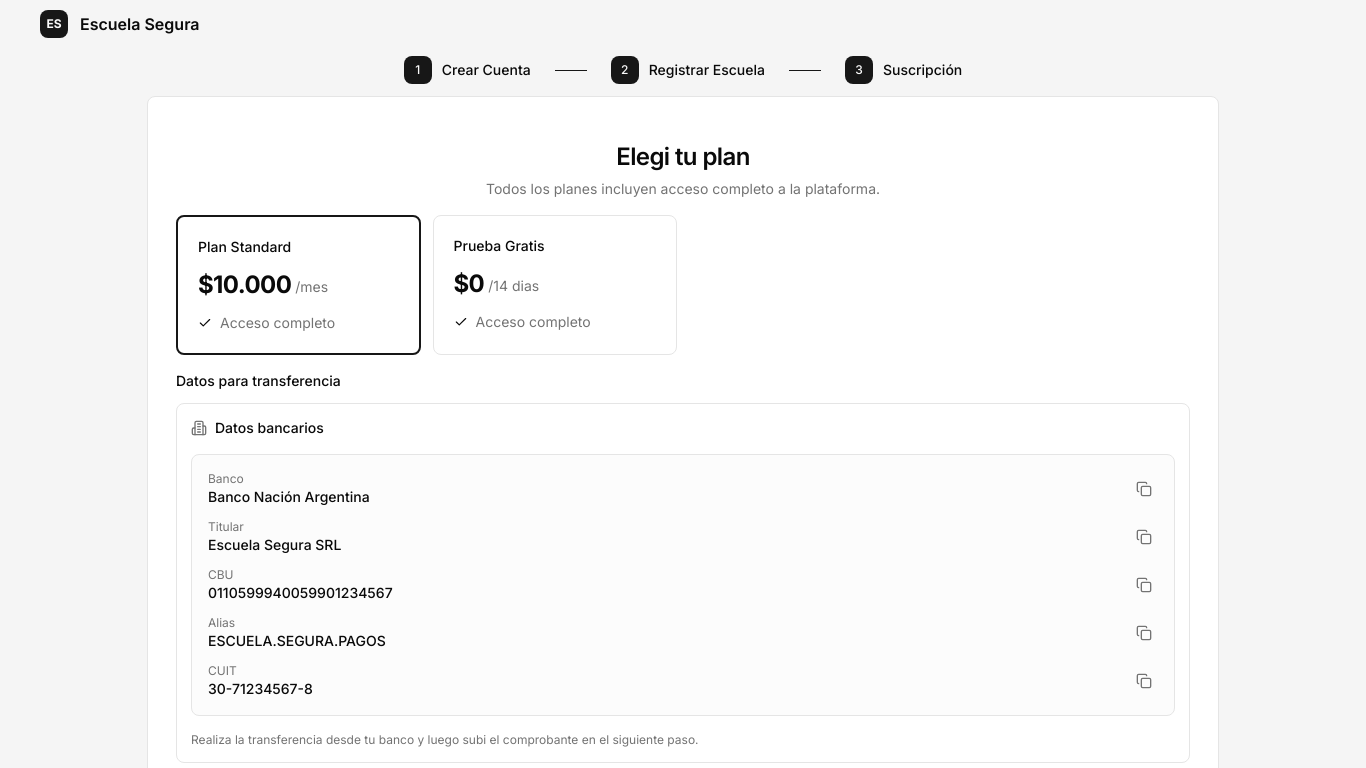
Test: SubscriptionPage › shows Activar prueba and hides bank details when trial plan is selected
This screenshot has width=1366, height=768.
Click the button "Prueba Gratis $0 /14 dias Acceso completo" at (555, 285), box [432,215,677,355]
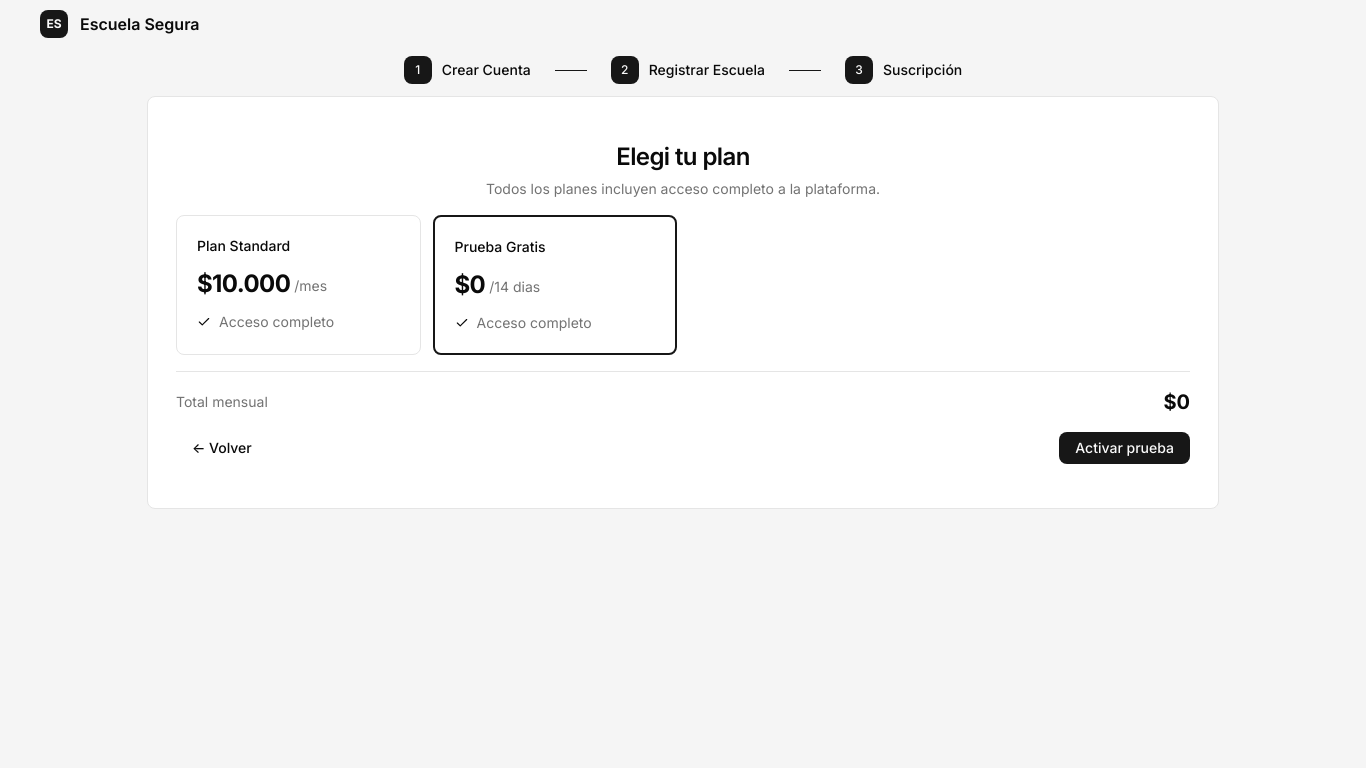
Expected: the button "Activar prueba" is shown, [1059,432,1190,464]
